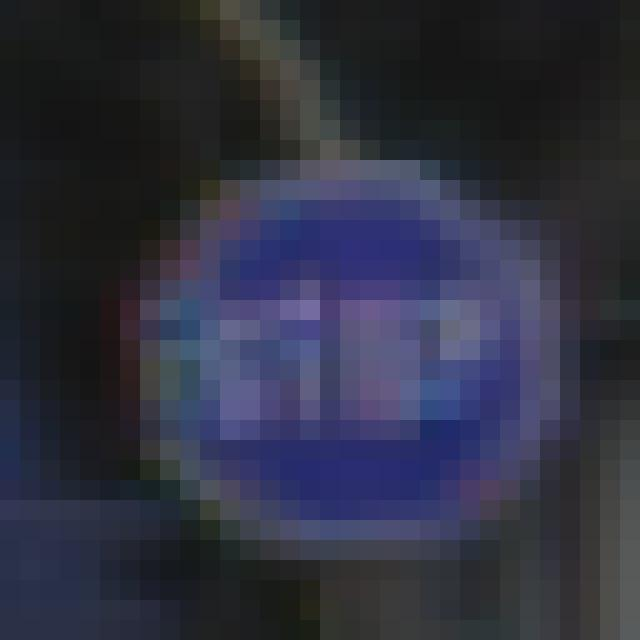STOP: (134, 160, 567, 565)
